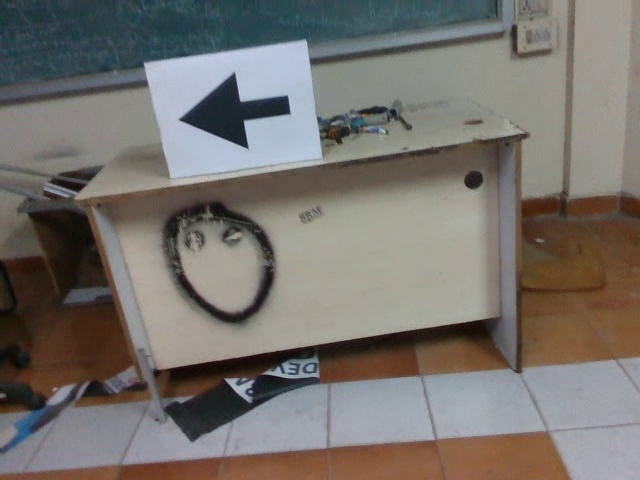Left: (175, 66, 293, 157)
